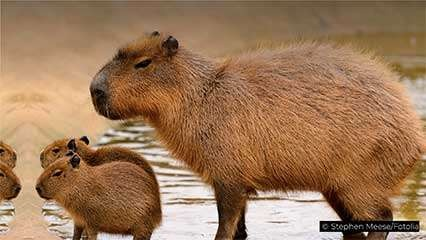capybara: (89, 22, 421, 239), (36, 155, 163, 239), (35, 133, 167, 189), (0, 161, 24, 209), (0, 133, 22, 170)
